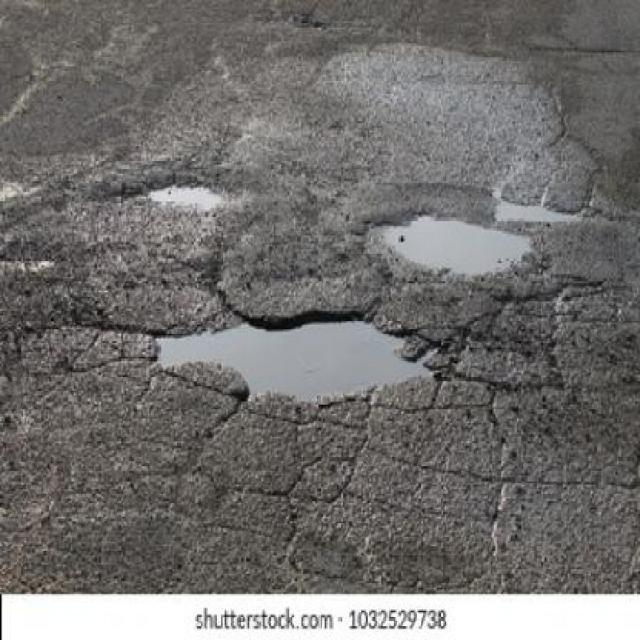Pothole: (135, 296, 460, 407), (380, 216, 530, 274), (495, 200, 579, 222)
